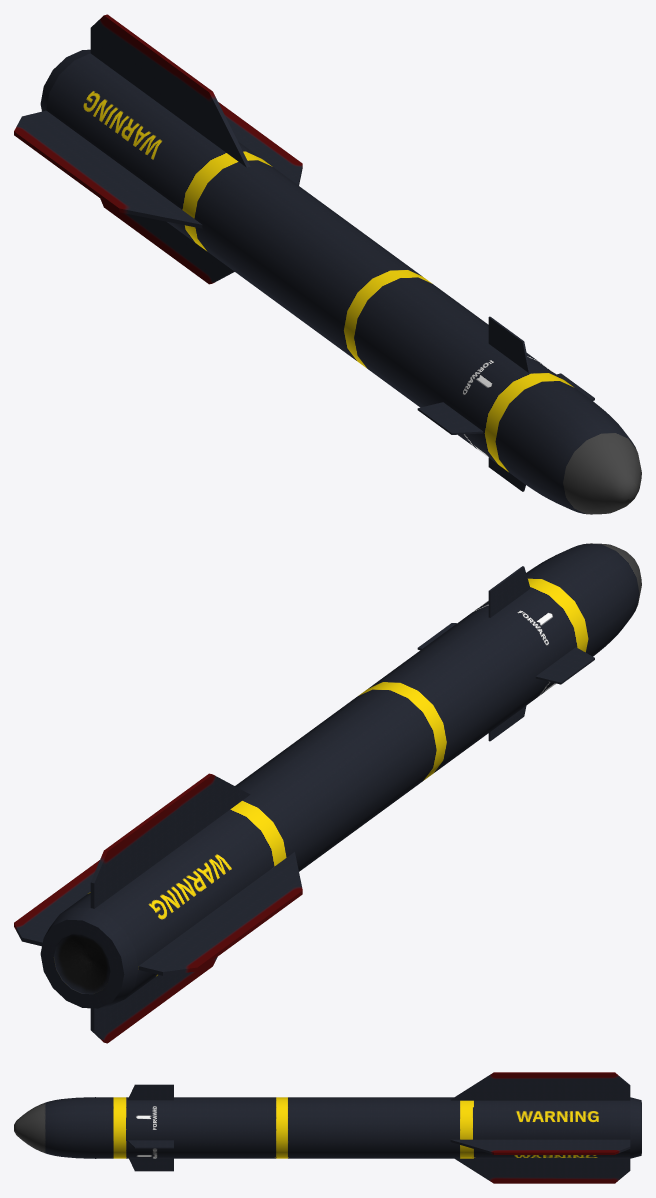
Rendered from missile.glb.
3 renders of one model, top to bottom at view 1: azimuth 30°, elevation 25°; view 2: azimuth 150°, elevation 25°; view 3: azimuth 270°, elevation 25°, orthographic. The views are drawn at different scales.
Parts seen in each view (by area): view 1: Hellfire__0; view 2: Hellfire__0; view 3: Hellfire__0.
Boxes of the visible parts, bbox=[...] form: Hellfire__0: bbox=[14, 14, 641, 514]; Hellfire__0: bbox=[14, 543, 641, 1043]; Hellfire__0: bbox=[14, 1072, 641, 1183].
Bounding box in the file's own units: 0.2814 × 0.2814 × 1.45.
1 material, 1 textured.
